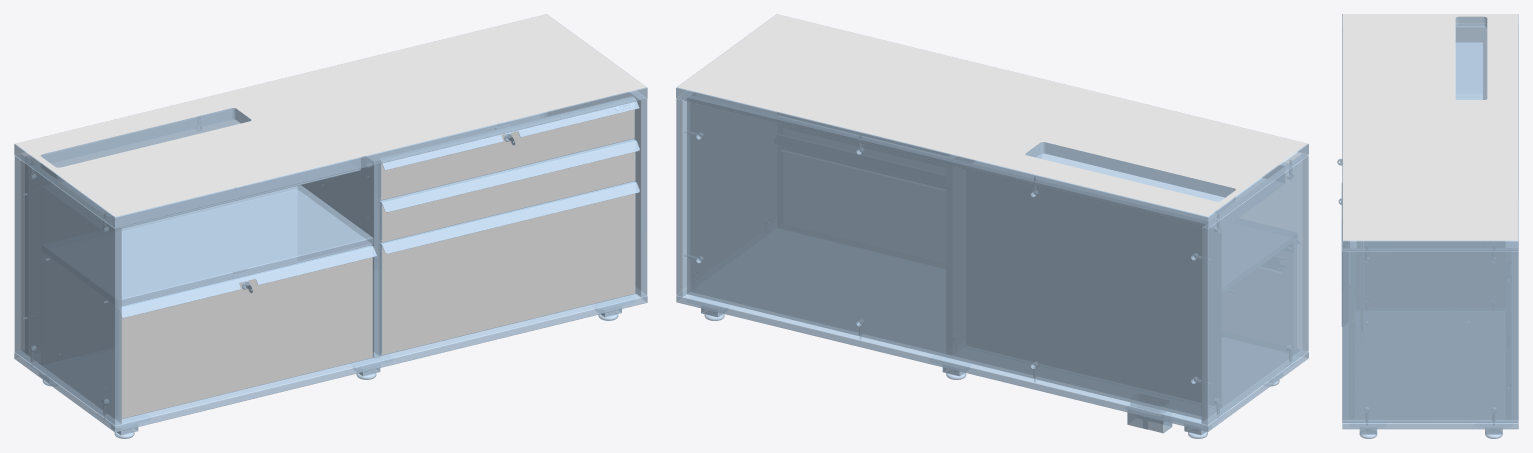
File: LKAL170000_DER_150.glb
The picture shows the model from 3 angles, left to right: view 1: azimuth 30°, elevation 25°; view 2: azimuth 150°, elevation 25°; view 3: azimuth 270°, elevation 25°; orthographic projection. The views are drawn at different scales.
Visible parts, largest first — view 1: 4 (×4), 66, 68, 72, 70, 64; view 2: 4 (×4), 66, 65; view 3: 4 (×4), 66, 68.
Part boxes in pixels (x1,y1,x2,y2): 4 (×4): [14, 14, 647, 432]; 66: [52, 157, 360, 297]; 68: [380, 139, 639, 212]; 72: [378, 96, 639, 170]; 70: [380, 181, 639, 253]; 64: [121, 245, 376, 318]; 4 (×4): [676, 14, 1308, 431]; 66: [972, 142, 1287, 381]; 65: [1126, 406, 1172, 433]; 4 (×4): [1342, 14, 1518, 429]; 66: [1455, 42, 1482, 99]; 68: [1341, 182, 1342, 290].
Size of the model in its own units: 1.53 by 0.643 by 0.5142.
